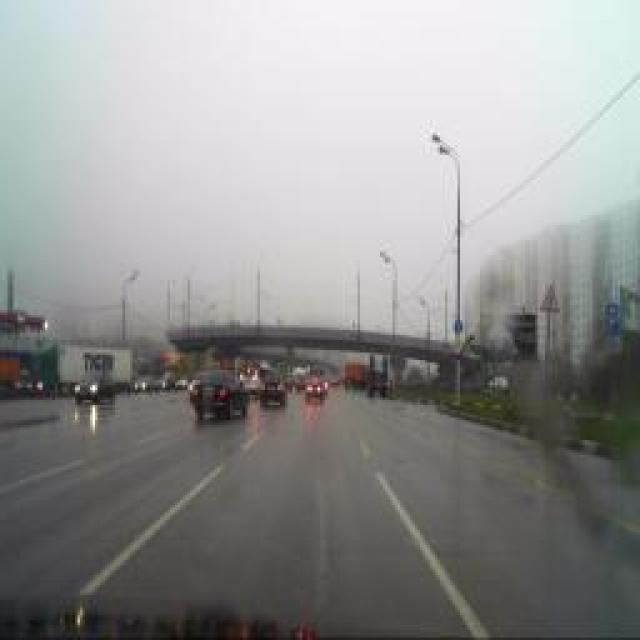sign: (452, 318, 462, 334)
